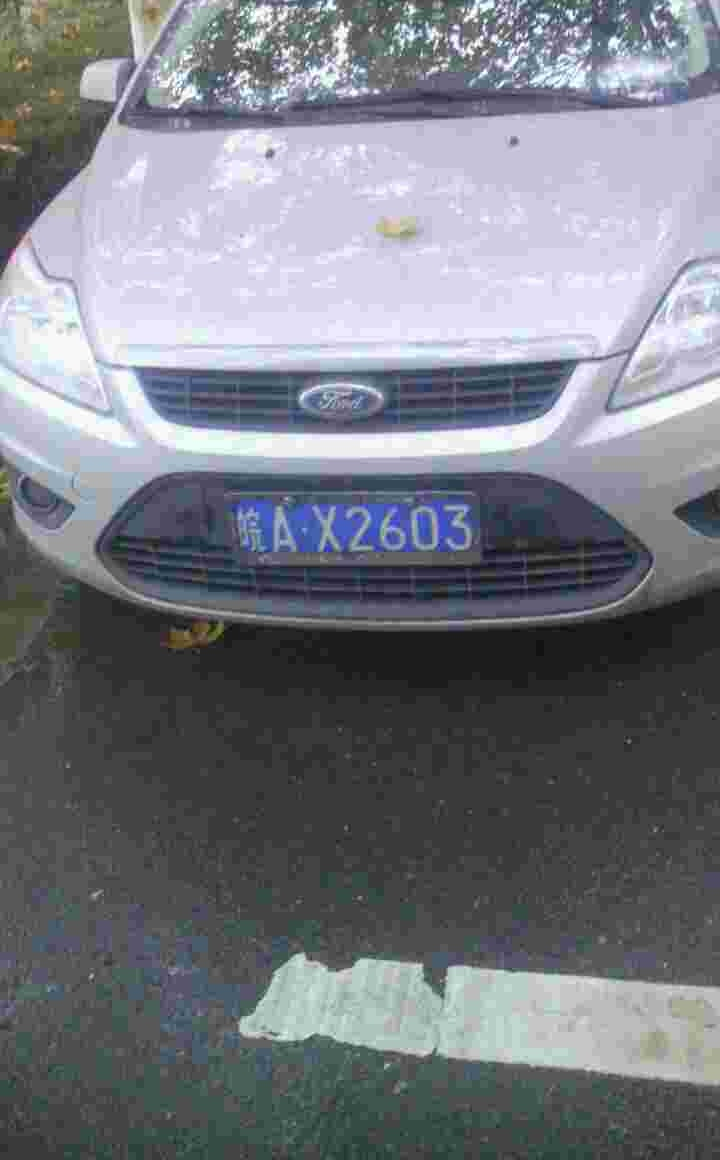license_plate: (245, 501, 484, 563)
